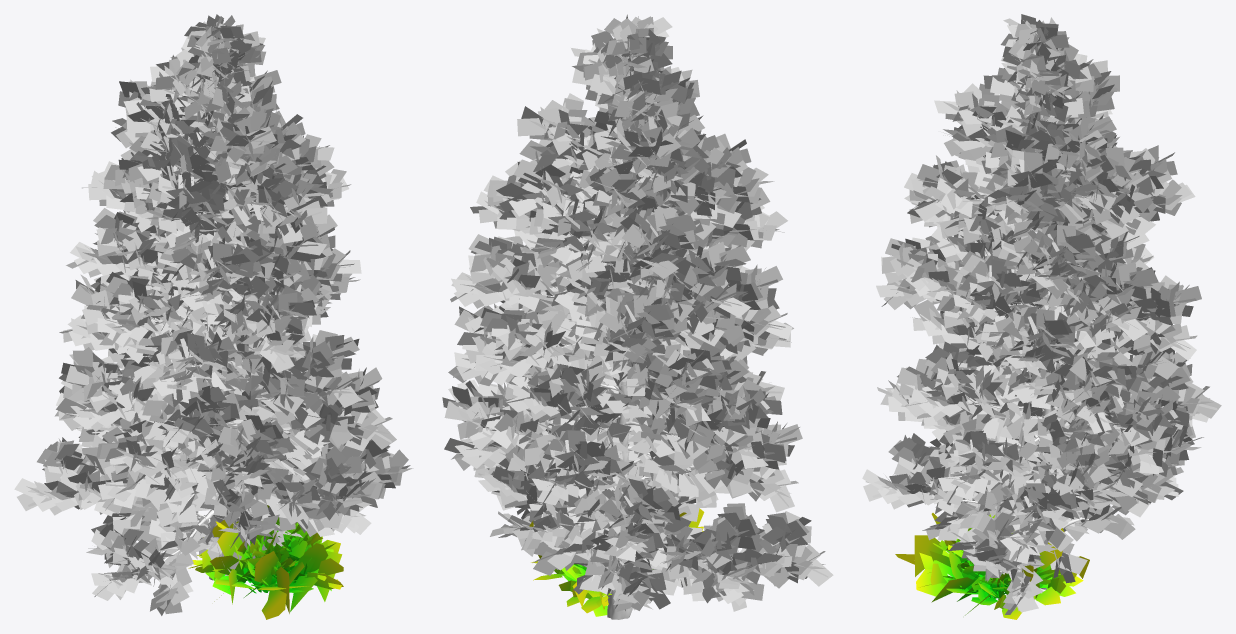
File: jobcenter_maintree.fbx
3 renders of one model, left to right at view 1: azimuth 30°, elevation 25°; view 2: azimuth 150°, elevation 25°; view 3: azimuth 270°, elevation 25°, orthographic. The views are drawn at different scales.
Parts seen in each view (by area): view 1: Group2333, Bush_01_LOD0; view 2: Group2333, Bush_01_LOD0; view 3: Group2333, Bush_01_LOD0.
Boxes of the visible parts, x1=… form: Group2333: x1=14, y1=14, x2=413, y2=615; Bush_01_LOD0: x1=188, y1=505, x2=343, y2=619; Group2333: x1=442, y1=14, x2=833, y2=619; Bush_01_LOD0: x1=529, y1=508, x2=704, y2=616; Group2333: x1=862, y1=14, x2=1221, y2=614; Bush_01_LOD0: x1=895, y1=513, x2=1089, y2=619.
Size of what is drawn, in the model's own units: 31456 by 52171 by 30113.
